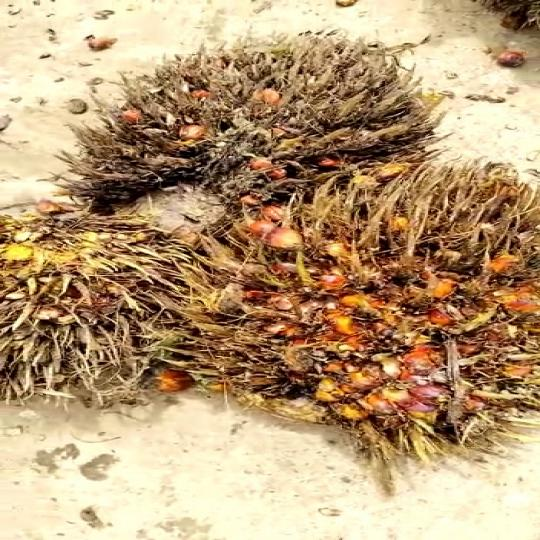terlalu masak: (54, 31, 432, 226)
